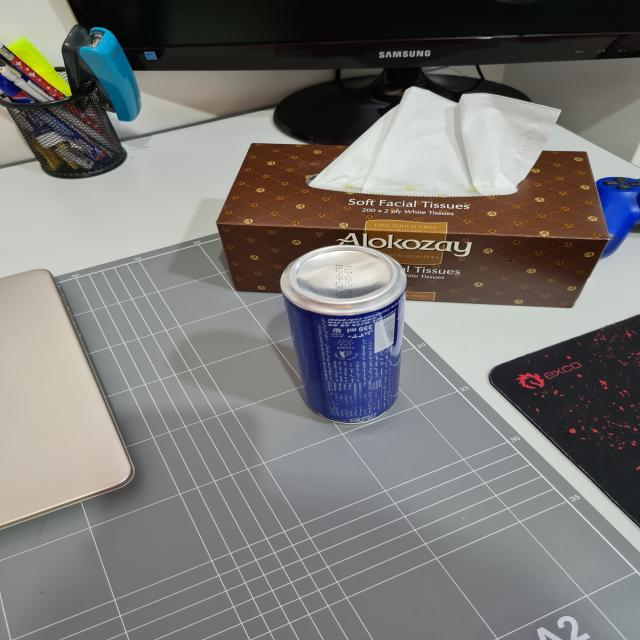can: (278, 237, 419, 430)
